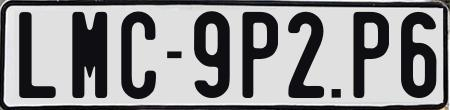2: (285, 10, 322, 96)
6: (398, 12, 433, 98)
9: (193, 11, 231, 100)
C: (120, 10, 160, 101)
L: (18, 11, 59, 103)
M: (70, 11, 111, 98)
P: (352, 11, 394, 100), (239, 10, 276, 96)
